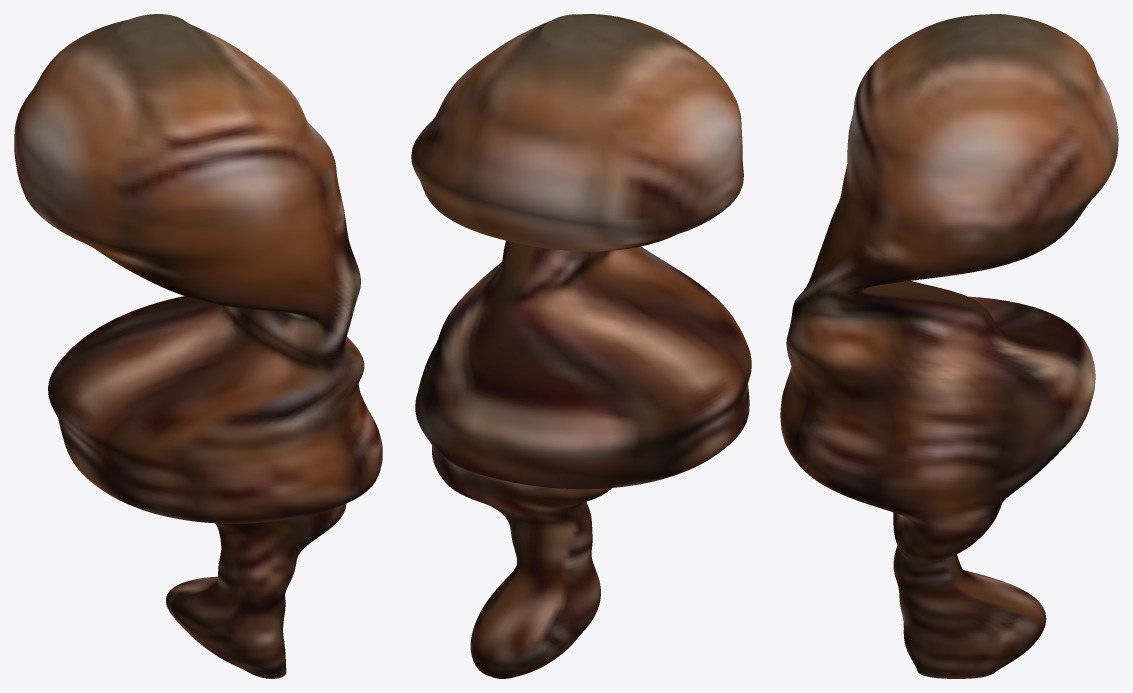
The picture shows the model from 3 angles, left to right: view 1: azimuth 30°, elevation 25°; view 2: azimuth 150°, elevation 25°; view 3: azimuth 270°, elevation 25°; orthographic projection. The views are drawn at different scales.
Parts seen in each view (by area): view 1: hull-X3; view 2: hull-X3; view 3: hull-X3.
Part boxes in pixels (x1,y1,x2,y2): hull-X3: [14, 14, 382, 678]; hull-X3: [411, 14, 751, 678]; hull-X3: [780, 14, 1118, 678].
Size of the model in its own units: 1.24 by 2.6 by 1.31.
